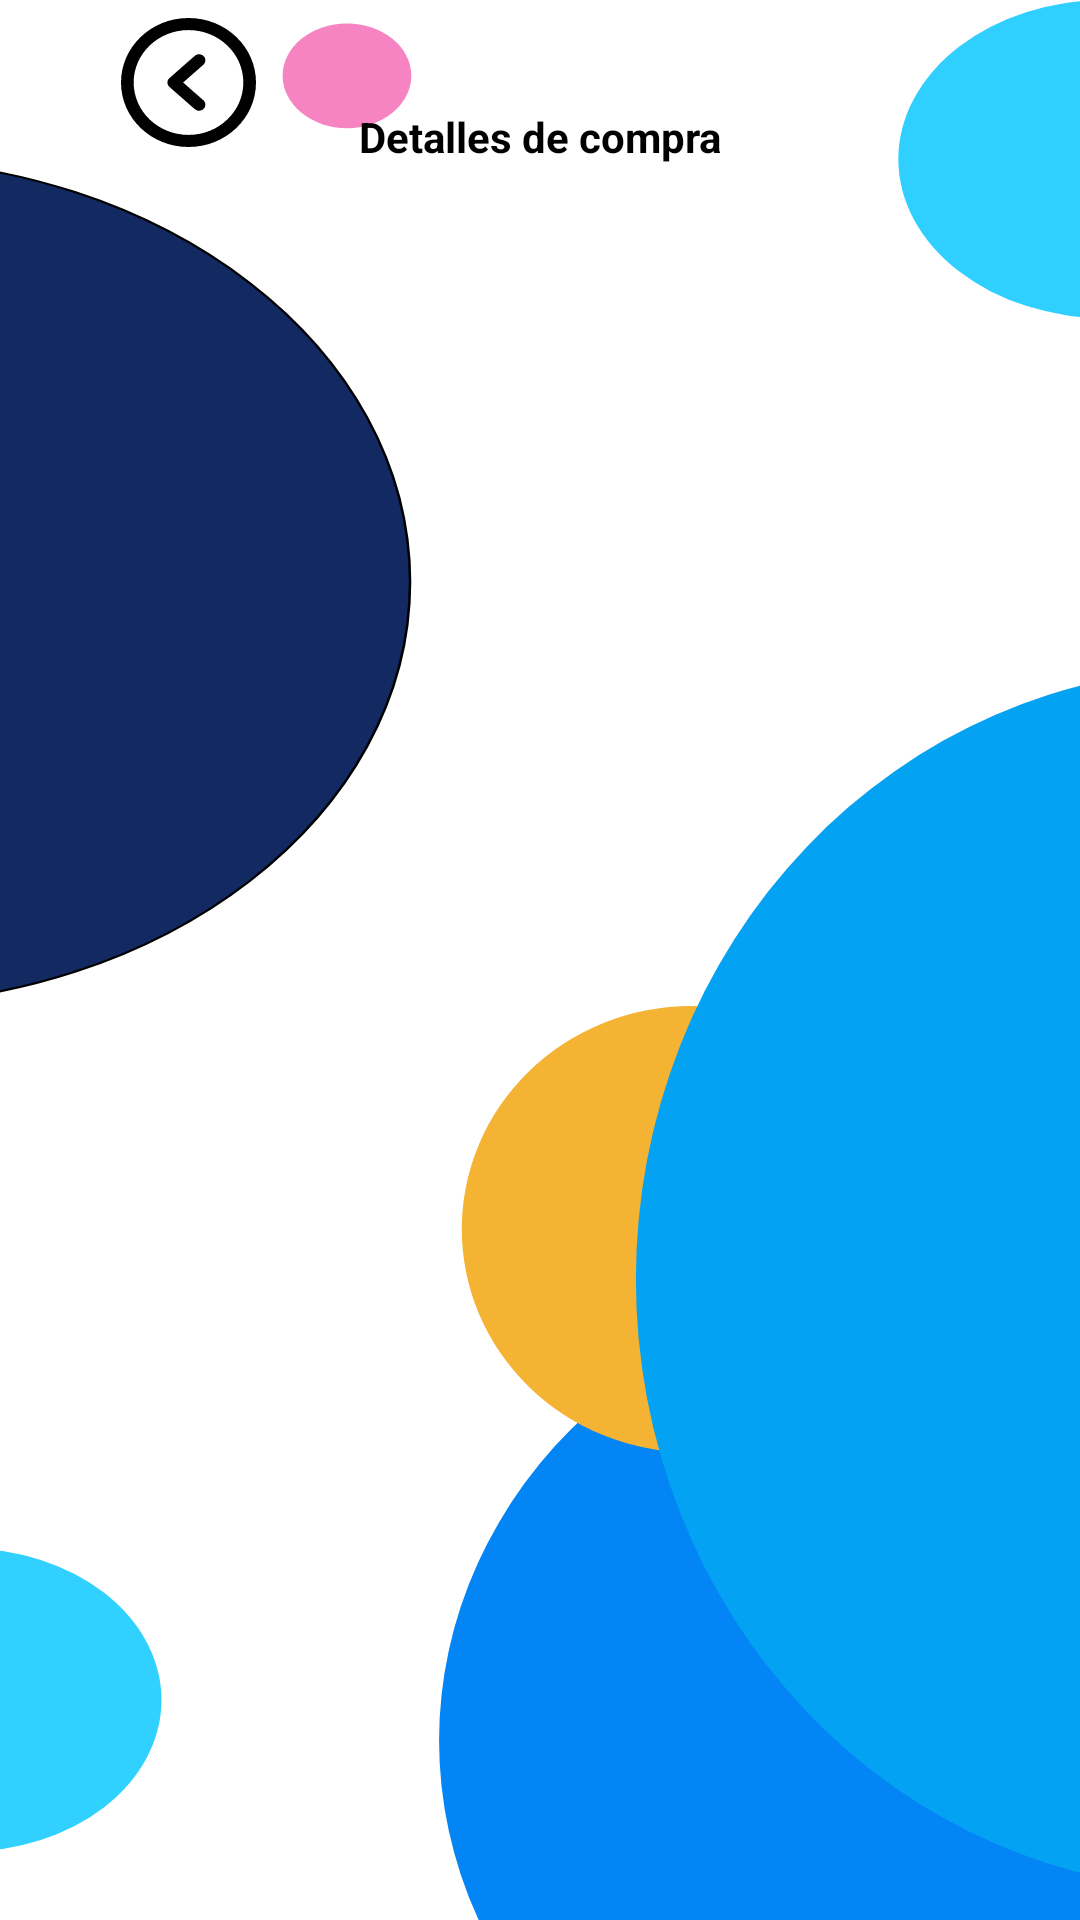

Named icons in this screenshot (1080×1920) and their centers, (x=x, y=y):
atras: (x=188, y=82)
